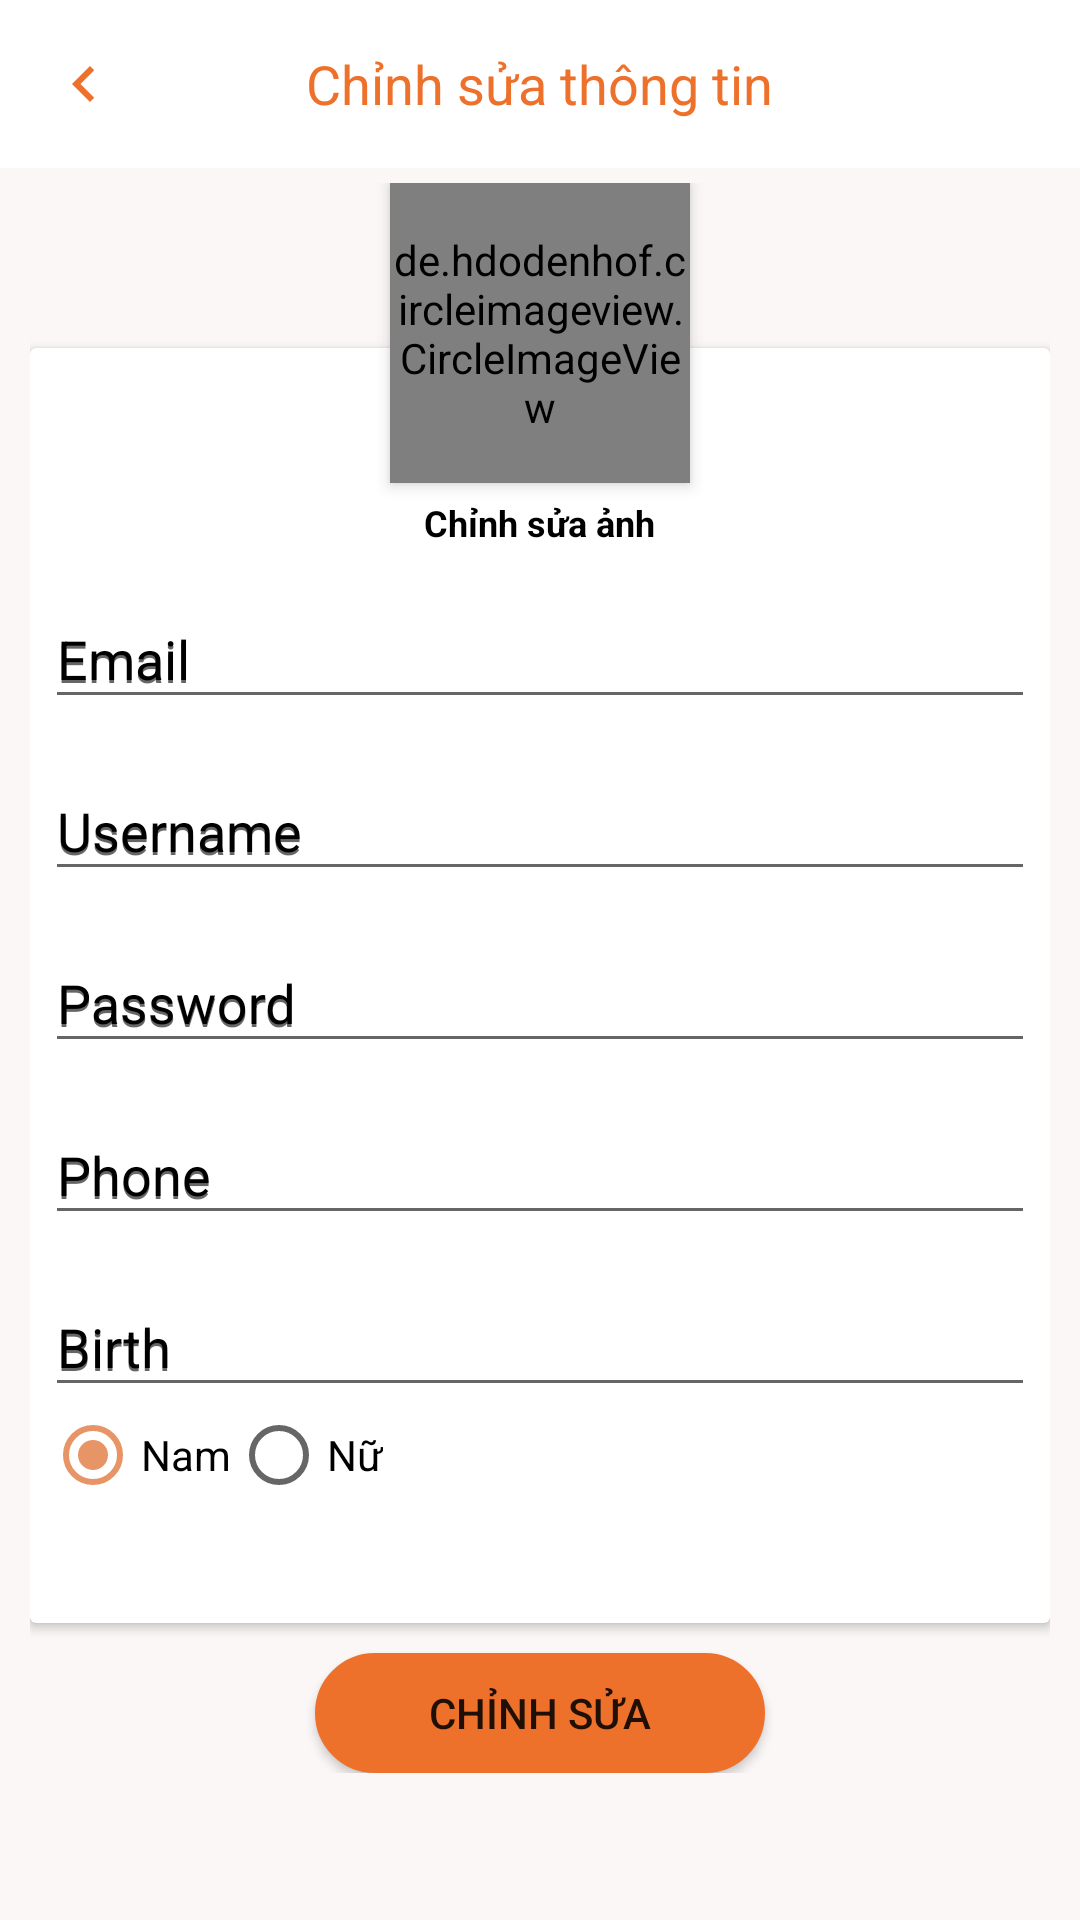

Where icons sit on this 1080px x 1920px app screen, as (x1, y1, x2, y2):
back: (72, 66, 94, 102)
